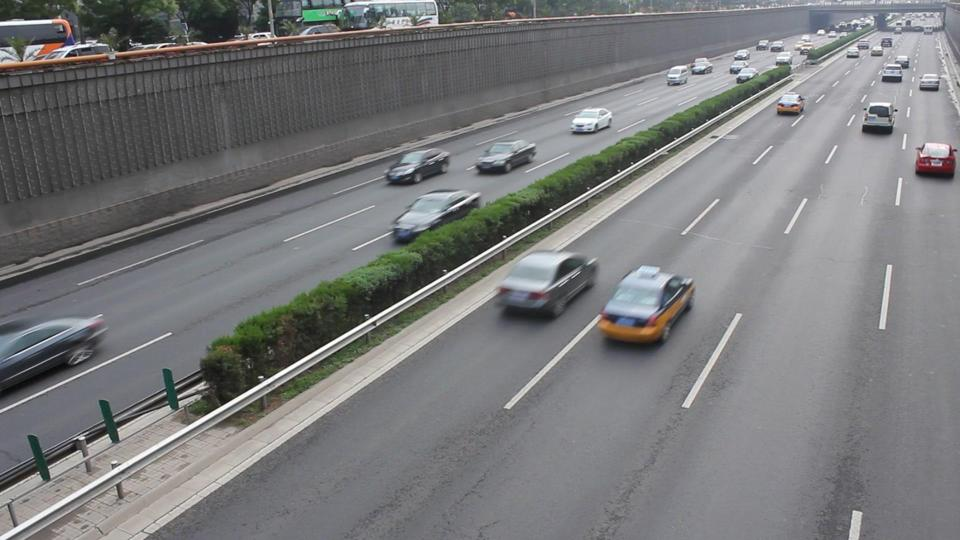Car: (1, 313, 103, 388), (593, 268, 693, 344), (495, 249, 594, 317), (389, 188, 479, 242), (383, 147, 450, 184), (475, 139, 536, 173), (913, 141, 960, 178)
